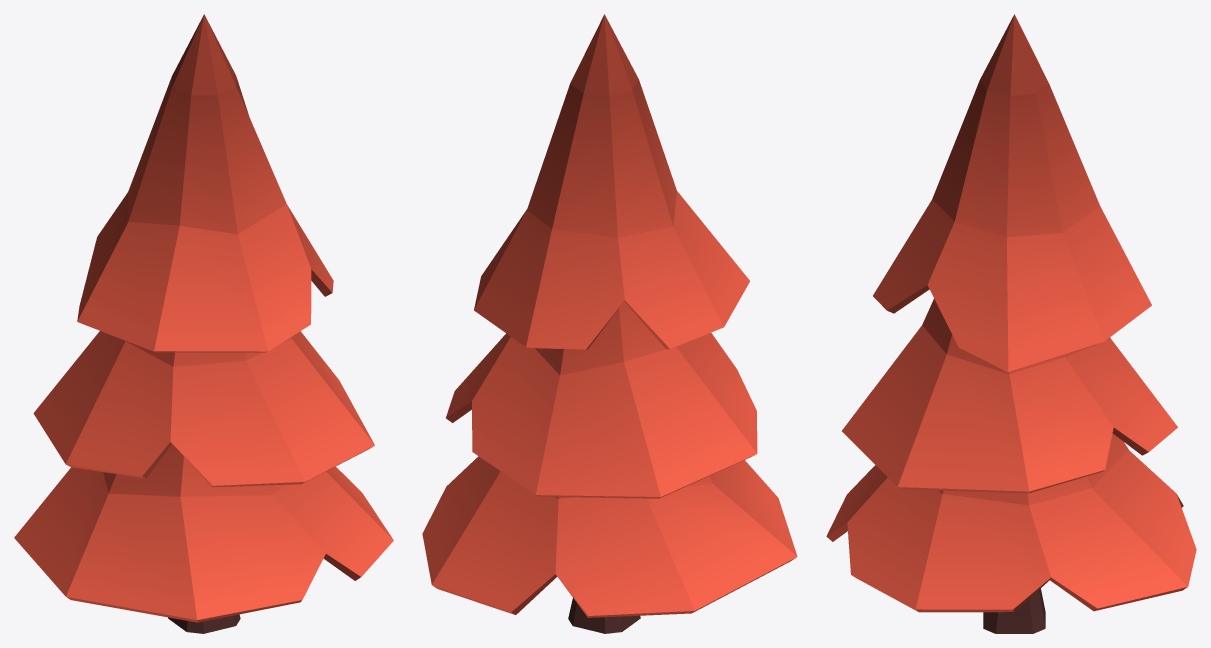
File: RedPine2.fbx
The picture shows the model from 3 angles, left to right: view 1: azimuth 30°, elevation 25°; view 2: azimuth 150°, elevation 25°; view 3: azimuth 270°, elevation 25°; orthographic projection.
Parts seen in each view (by area): view 1: RedPine2; view 2: RedPine2; view 3: RedPine2.
Part boxes in pixels (x1=…): RedPine2: x1=14, y1=14, x2=393, y2=633; RedPine2: x1=422, y1=14, x2=797, y2=633; RedPine2: x1=826, y1=14, x2=1196, y2=633.
Bounding box in the file's own units: 432 × 773 × 428.
